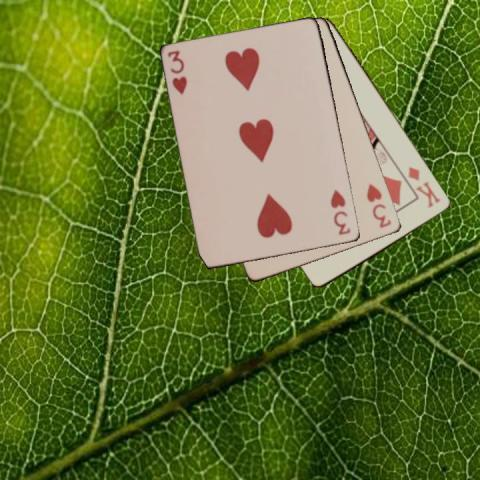3h: (364, 181, 393, 230), (327, 186, 352, 236), (165, 47, 189, 96)
Kd: (405, 163, 443, 210)
